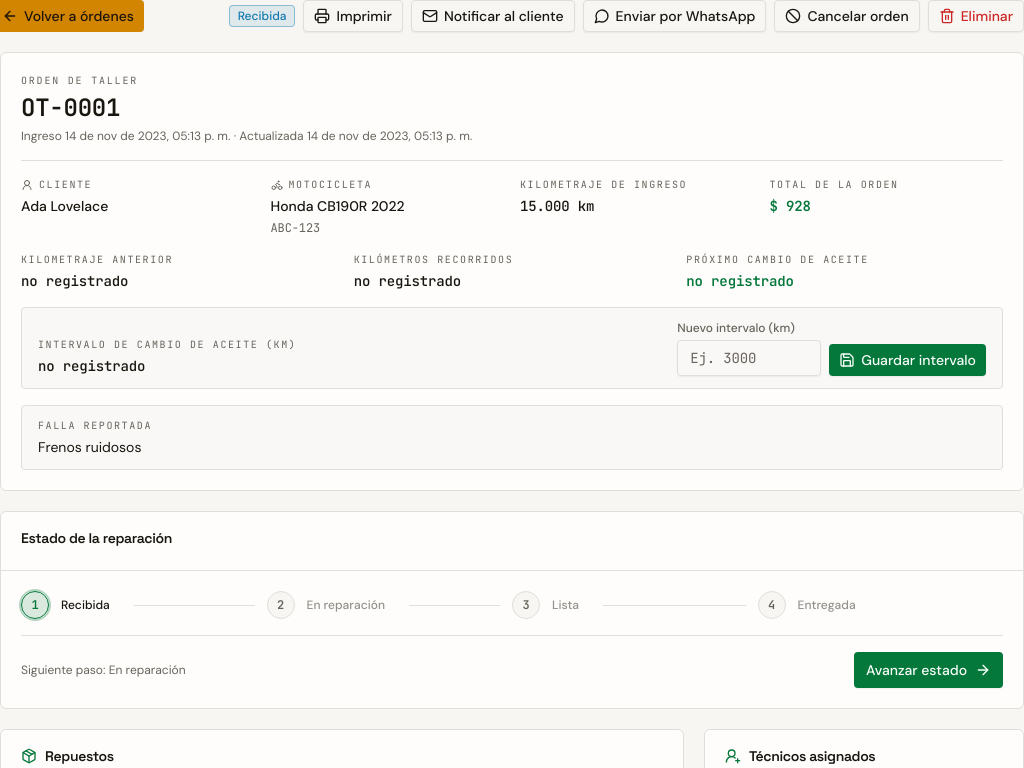
OrderDetailPage anticipo/receipt seam (characterization) › keeps the anticipo line and pending balance in the OT document
Expected: the heading "OT-0001" is shown, [21, 92, 120, 123]
Click the button with test id "order_detail.print_button": point(353, 16) [304, 0, 403, 32]
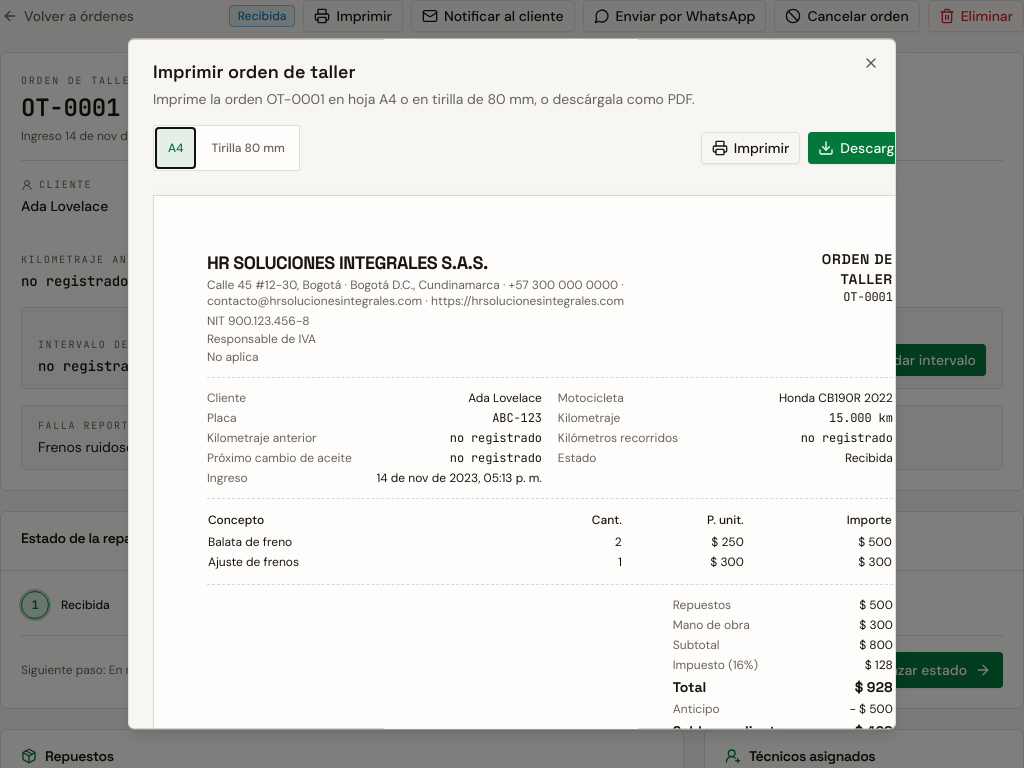
Expected: the text "Anticipo" is shown, [673, 701, 720, 717]
Expected: the text "- $ 500" is shown, [849, 701, 893, 717]
